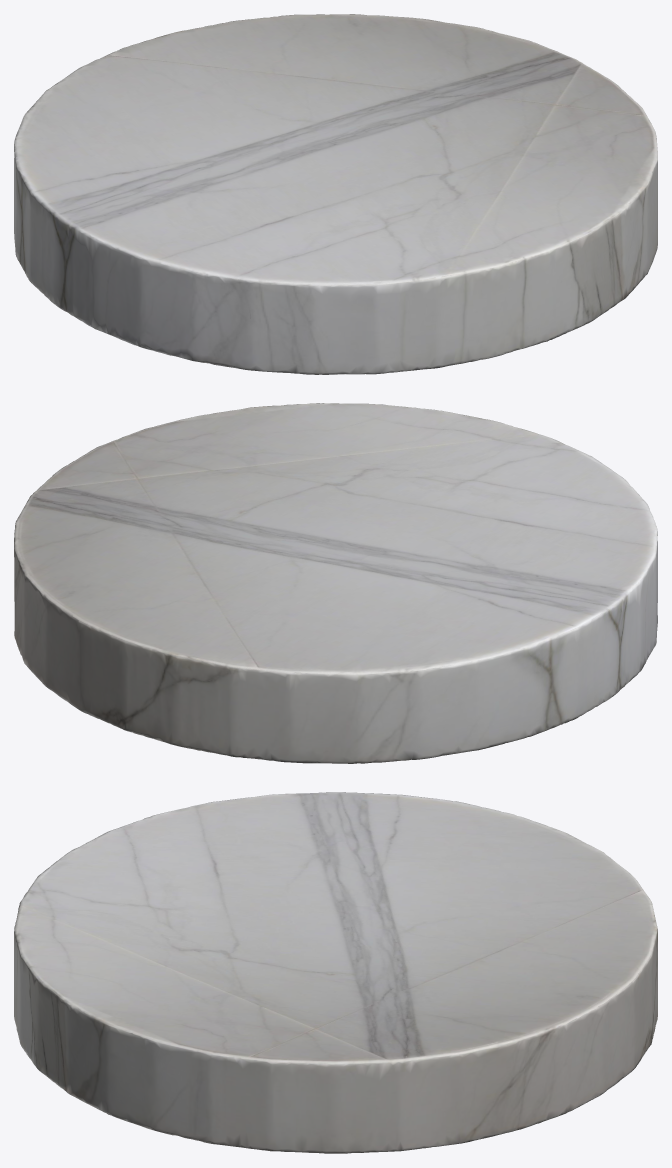
File: pedestal.glb
The picture shows the model from 3 angles, top to bottom: view 1: azimuth 30°, elevation 25°; view 2: azimuth 150°, elevation 25°; view 3: azimuth 270°, elevation 25°; orthographic projection.
Visible parts, largest first — view 1: Mesh1.0; view 2: Mesh1.0; view 3: Mesh1.0.
Boxes of the visible parts, x1=… form: Mesh1.0: x1=14, y1=14, x2=657, y2=374; Mesh1.0: x1=14, y1=403, x2=657, y2=763; Mesh1.0: x1=14, y1=792, x2=657, y2=1153.
Size of the model in its own units: 2 by 0.3181 by 2.
Materials: 1 (1 with a texture image).
